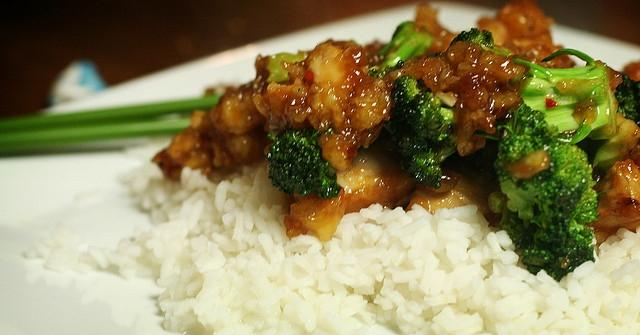broccoli: (380, 27, 638, 190), (488, 144, 600, 280), (266, 126, 342, 200), (369, 20, 433, 80), (449, 27, 516, 57)
